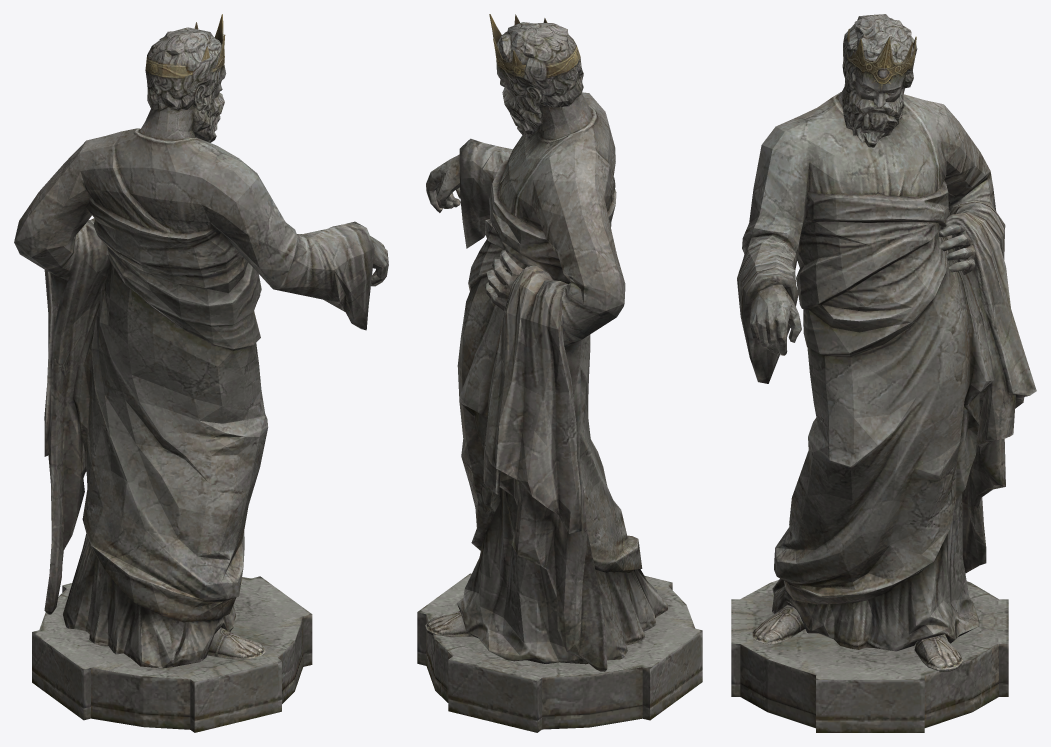
Rendered from bg_lut_lucastle_herostatue08_sm_artree.FBX.
The picture shows the model from 3 angles, left to right: view 1: azimuth 30°, elevation 25°; view 2: azimuth 150°, elevation 25°; view 3: azimuth 270°, elevation 25°; orthographic projection. The views are drawn at different scales.
Visible parts, largest first — view 1: bg_lut_lucastle_herostatue08_sm_artree; view 2: bg_lut_lucastle_herostatue08_sm_artree; view 3: bg_lut_lucastle_herostatue08_sm_artree.
Boxes of the visible parts, x1,y1,x2,y2 form: bg_lut_lucastle_herostatue08_sm_artree: (14, 14, 388, 732); bg_lut_lucastle_herostatue08_sm_artree: (417, 14, 702, 732); bg_lut_lucastle_herostatue08_sm_artree: (731, 14, 1036, 732).
Bounding box in the file's own units: 164 × 347 × 144.
